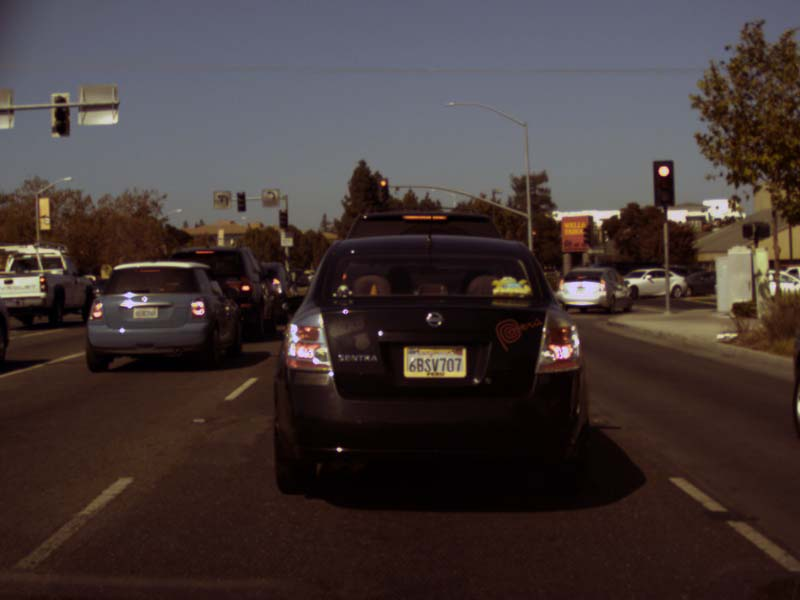Red: (652, 160, 673, 204), (378, 178, 388, 202), (531, 229, 536, 246)
